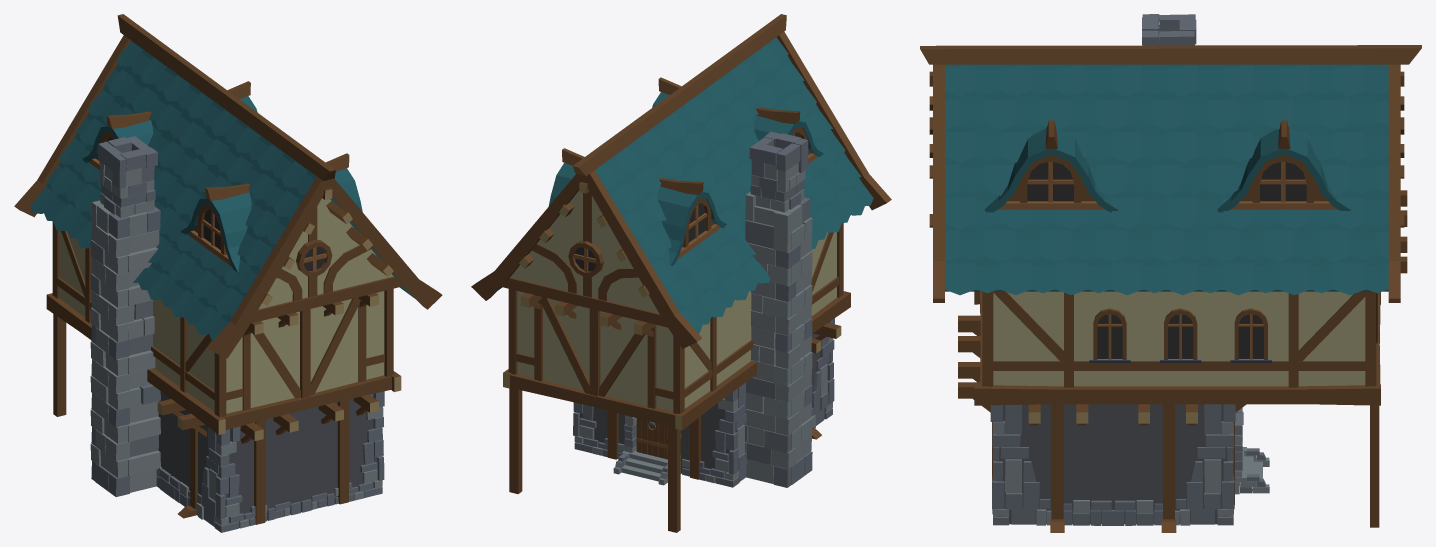
The model's file is House_2.glb.
3 views of the same model, side by side, from view 1: azimuth 30°, elevation 25°; view 2: azimuth 150°, elevation 25°; view 3: azimuth 270°, elevation 25° (orthographic). The views are drawn at different scales.
Visible parts, largest first — view 1: House_2_Cylinder.021; view 2: House_2_Cylinder.021; view 3: House_2_Cylinder.021.
Boxes of the visible parts, x1,y1,x2,y2 form: House_2_Cylinder.021: [14, 14, 442, 532]; House_2_Cylinder.021: [471, 14, 891, 532]; House_2_Cylinder.021: [920, 14, 1421, 532].
Size of the model in its own units: 2.22 by 3.25 by 3.42.
